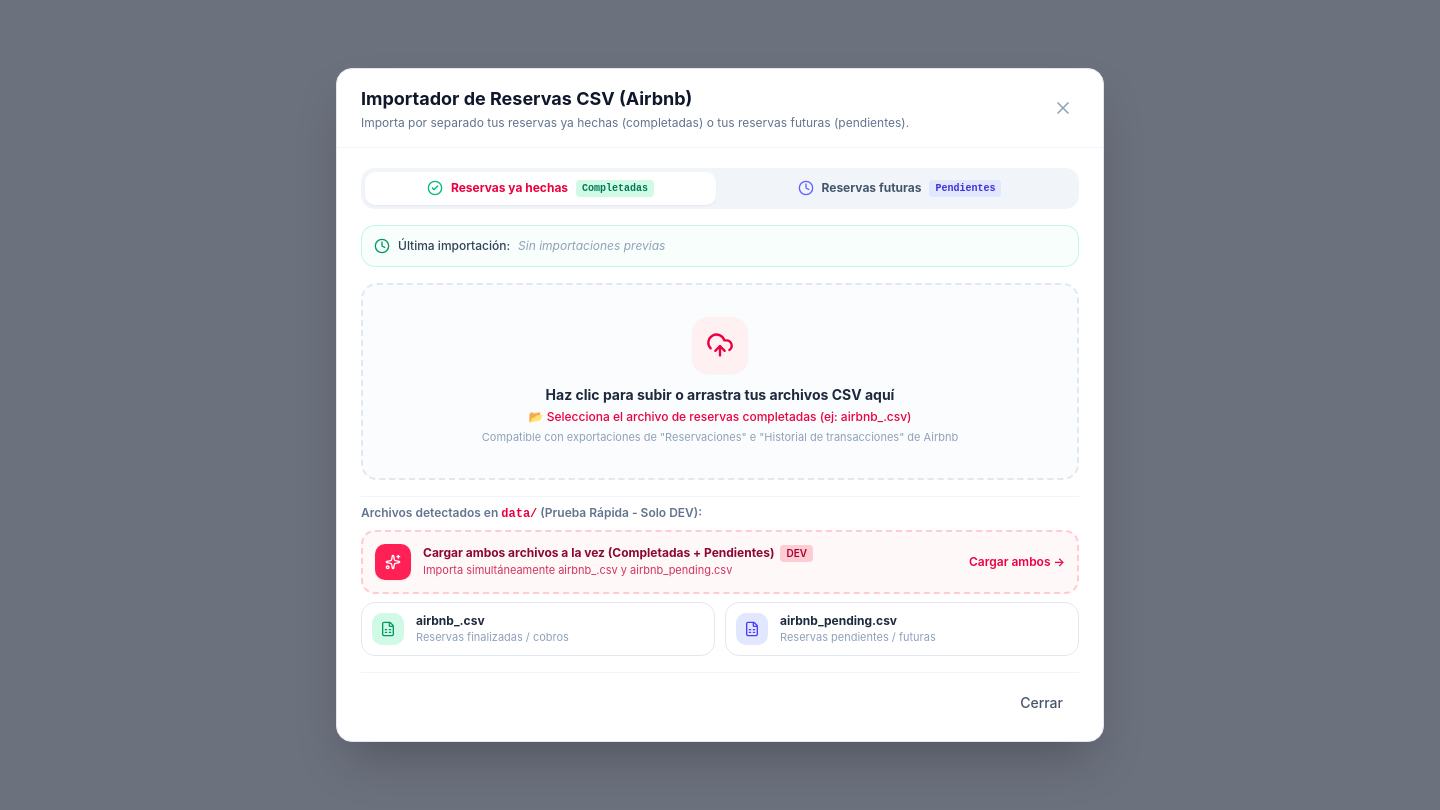
Scenario: CsvImportModal Component › allows loading both sample CSV files simultaneously and displays aggregated preview
The image size is (1440, 810).
Click the text "Cargar ambos archivos a la vez" at [618, 553], box [423,545,813,562]
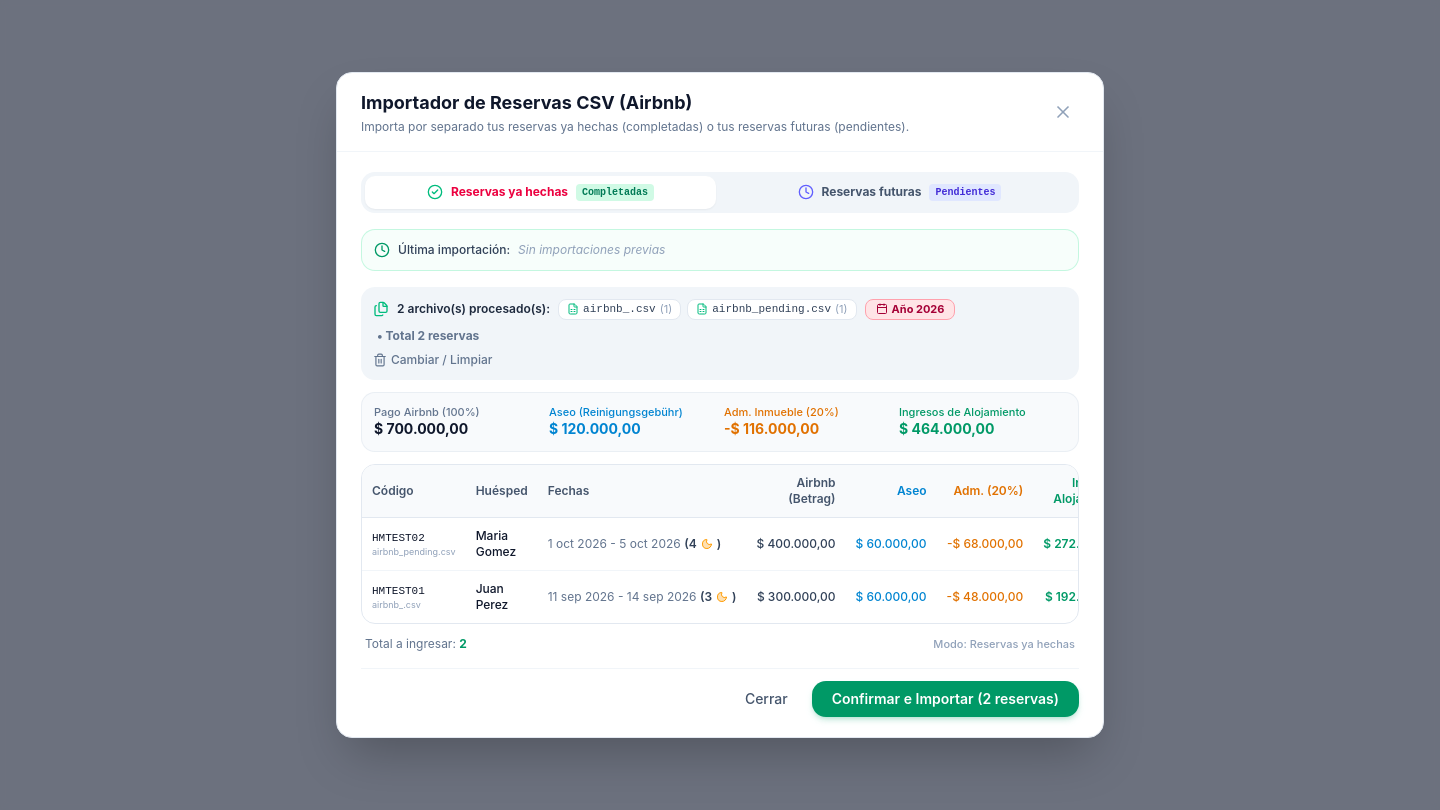
Result: the text "2 archivo(s) procesado(s):" is shown at [397,301,550,317]
Result: the text "Juan Perez" is shown at [466,571,538,623]
Result: the text "Maria Gomez" is shown at [466,518,538,571]
